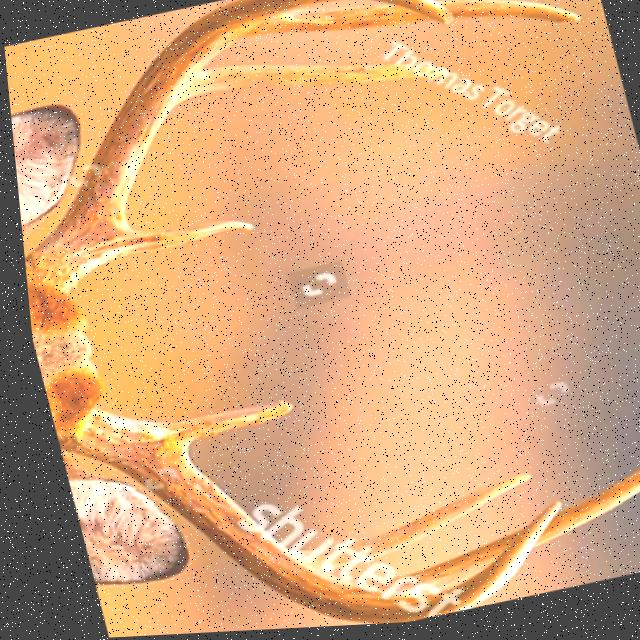L-F: (50, 407, 553, 628)
L-G1: (152, 402, 289, 453)
L-G2: (277, 476, 527, 574)
R-F: (19, 0, 454, 296)
R-G1: (101, 220, 252, 264)
R-G2: (177, 66, 449, 105)
